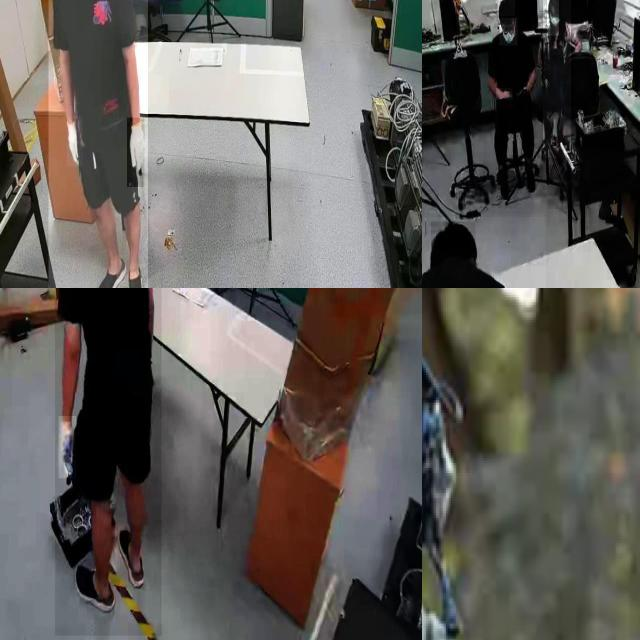face_mask: (500, 18, 518, 46), (546, 0, 559, 36)
hand_glove: (127, 118, 145, 188), (58, 416, 76, 479), (67, 116, 83, 167)
hand_noglove: (515, 84, 531, 100), (496, 88, 513, 101)
head_nohelmet: (431, 221, 476, 251), (497, 0, 515, 17)
person: (55, 288, 162, 636), (48, 0, 148, 288), (483, 0, 543, 214), (542, 0, 571, 158)
shoes: (70, 558, 120, 614), (116, 519, 147, 593), (95, 245, 129, 288), (494, 162, 514, 204), (520, 156, 539, 197), (123, 258, 143, 288)
